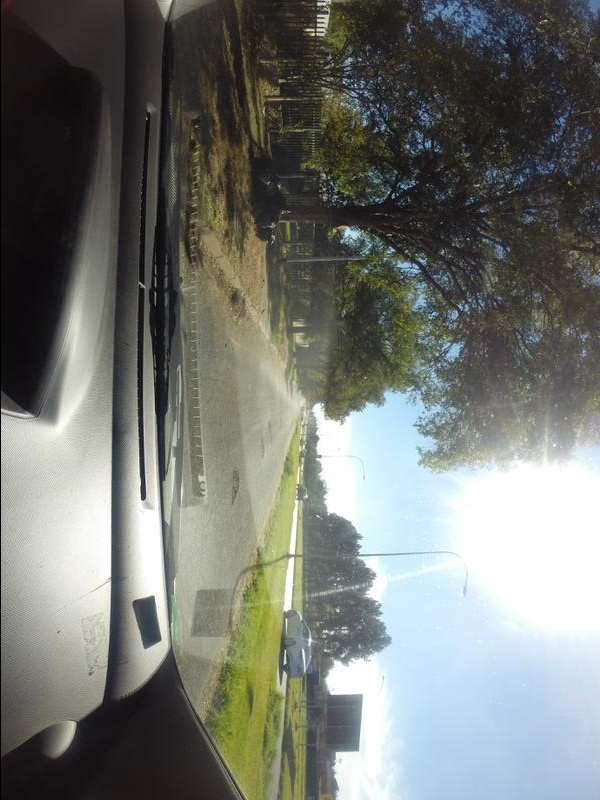pothole: (223, 463, 248, 510), (253, 435, 266, 463), (263, 424, 276, 448)
